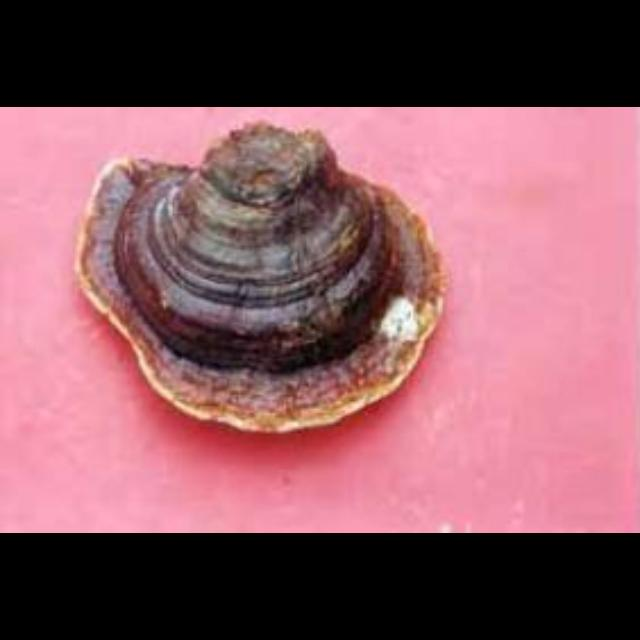ganoderma: (73, 120, 452, 437)
